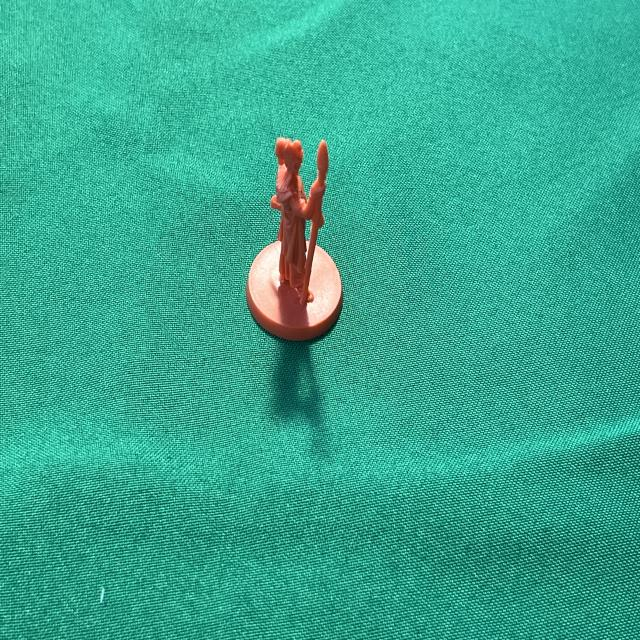amon_follower: (246, 138, 342, 340)
